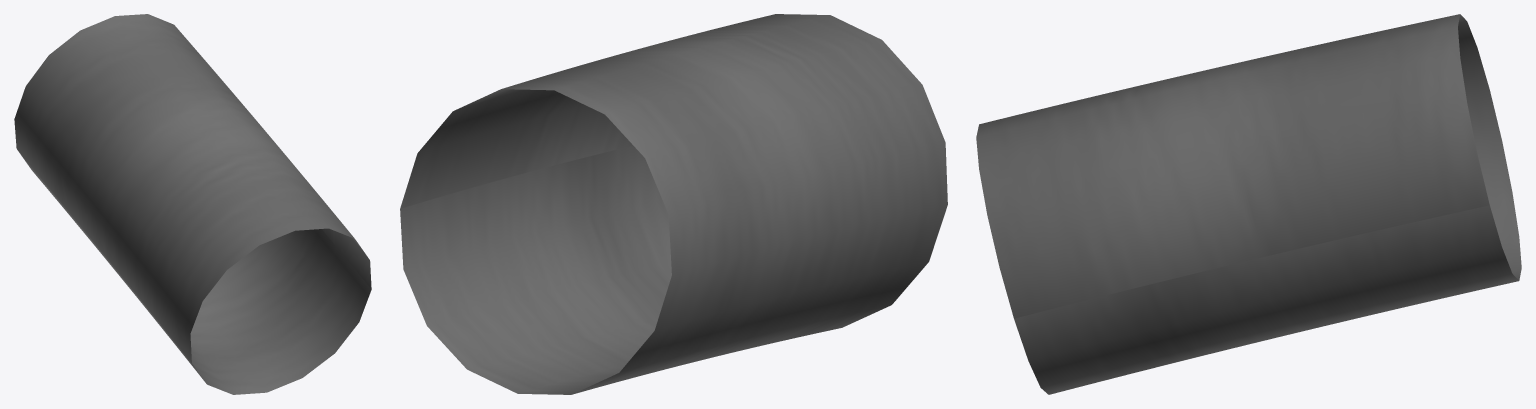
Rendered from mastarmcurve_10x2_c4.obj.
3 views of the same model, side by side, from view 1: azimuth 30°, elevation 25°; view 2: azimuth 150°, elevation 25°; view 3: azimuth 270°, elevation 25° (orthographic). The views are drawn at different scales.
Visible parts, largest first — view 1: mastarm_10x2_c4; view 2: mastarm_10x2_c4; view 3: mastarm_10x2_c4.
Boxes of the visible parts, box(x1,y1,x2,y2) form: mastarm_10x2_c4: box(14, 14, 371, 394); mastarm_10x2_c4: box(400, 14, 947, 394); mastarm_10x2_c4: box(976, 14, 1521, 394).
Bounding box in the file's own units: 0.5875 × 0.8224 × 1.15.
